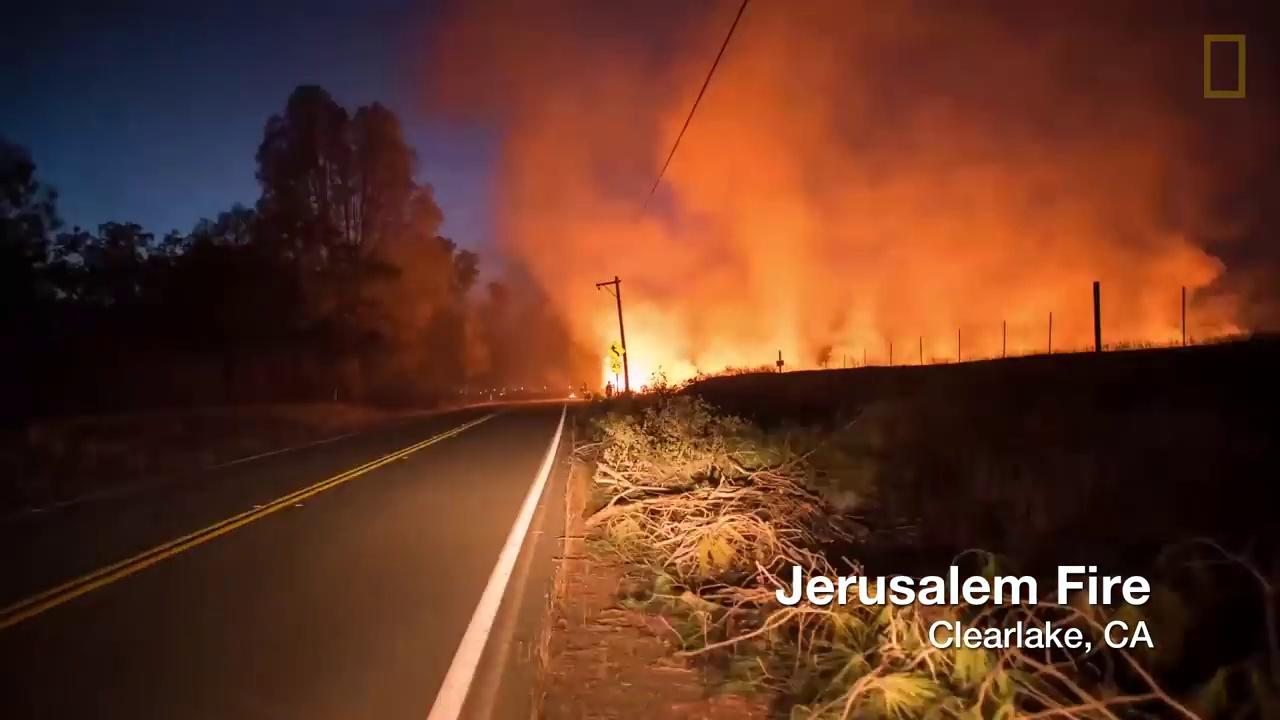Fire: (594, 340, 664, 393)
